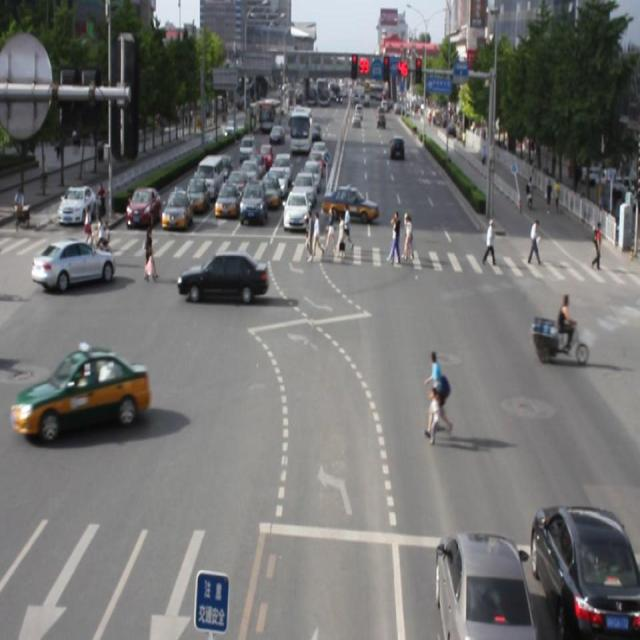car: (523, 495, 640, 640), (15, 348, 150, 441), (429, 524, 530, 640), (176, 248, 270, 304)
